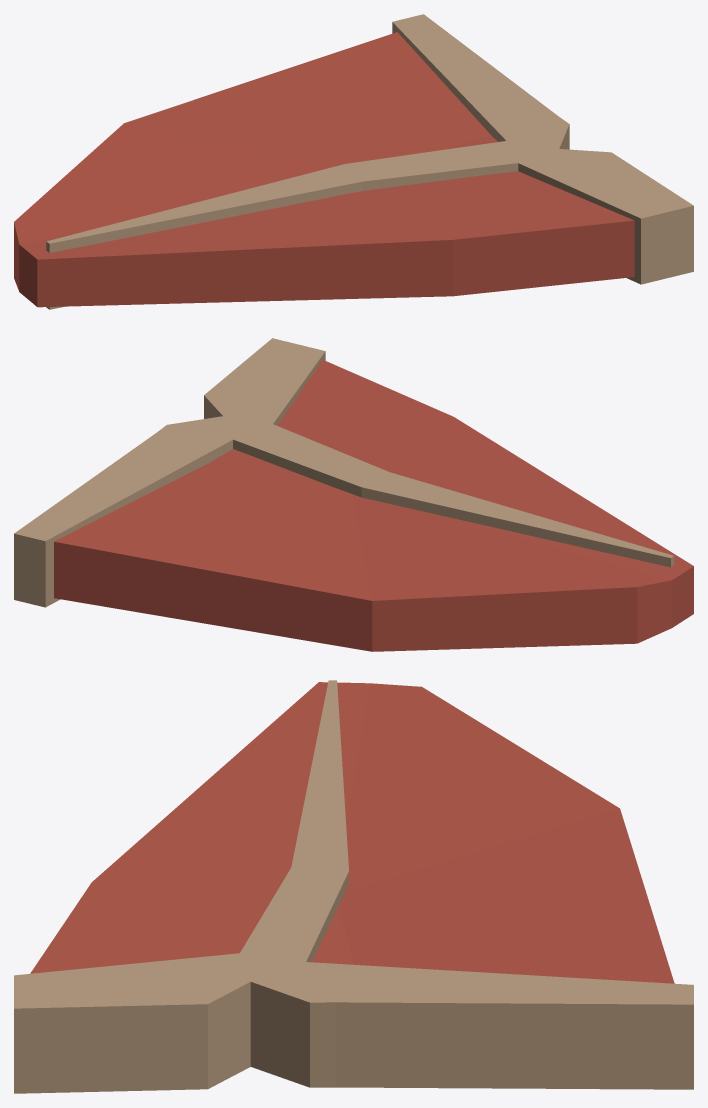
Rendered from tBoneNoFat.fbx.
3 views of the same model, one above another, from view 1: azimuth 30°, elevation 25°; view 2: azimuth 150°, elevation 25°; view 3: azimuth 270°, elevation 25° (orthographic). The views are drawn at different scales.
Visible parts, largest first — view 1: tBoneNoFat; view 2: tBoneNoFat; view 3: tBoneNoFat.
Boxes of the visible parts, box(x1,y1,x2,y2) form: tBoneNoFat: box(14, 14, 693, 309); tBoneNoFat: box(14, 338, 693, 651); tBoneNoFat: box(14, 680, 693, 1093).
Bounding box in the file's own units: 33.58 × 3.94 × 28.51.
Materials: 1 (1 with a texture image).
